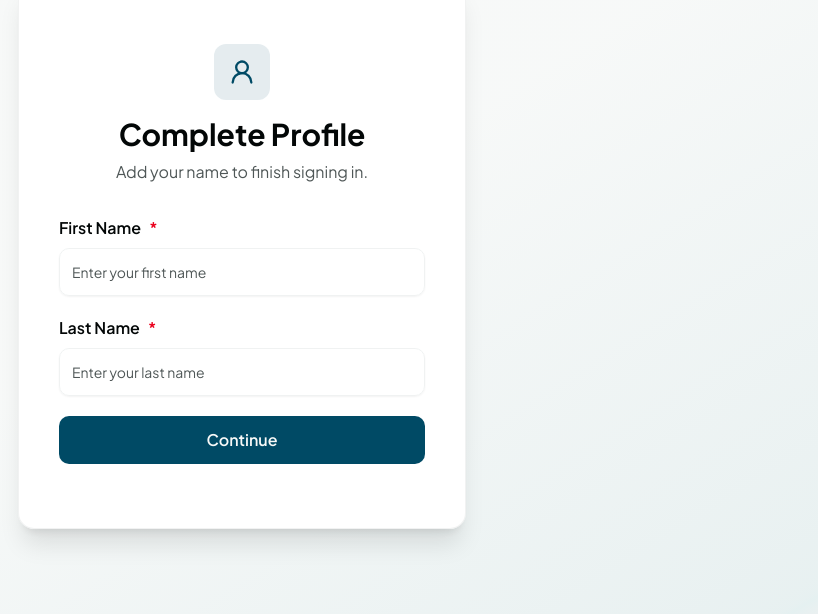
Test: CompleteProfilePage › shows error when both names are empty on submit
Click the button "Continue". click: (242, 440)
box: [59,416,425,464]
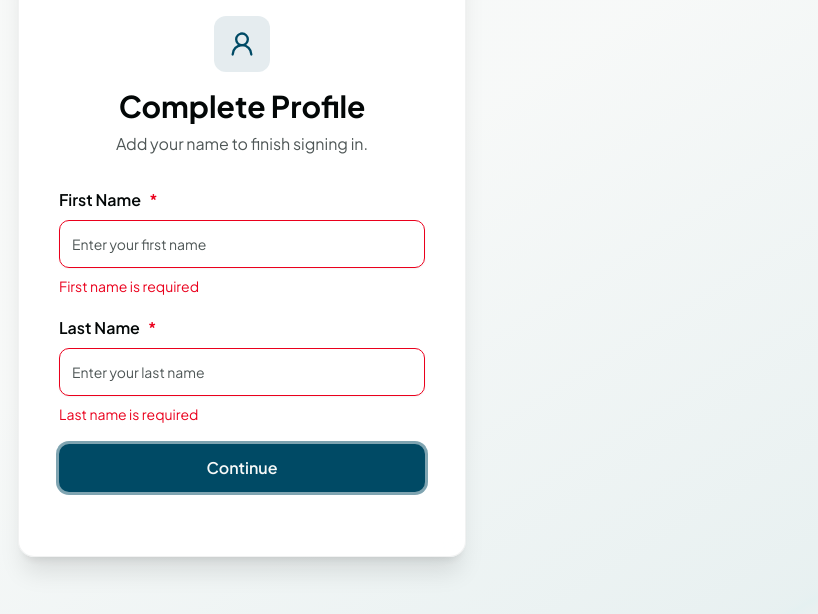
Result: the text "First name is required" is shown at [59,277,199,295]
Result: the text "Last name is required" is shown at [59,405,198,423]
